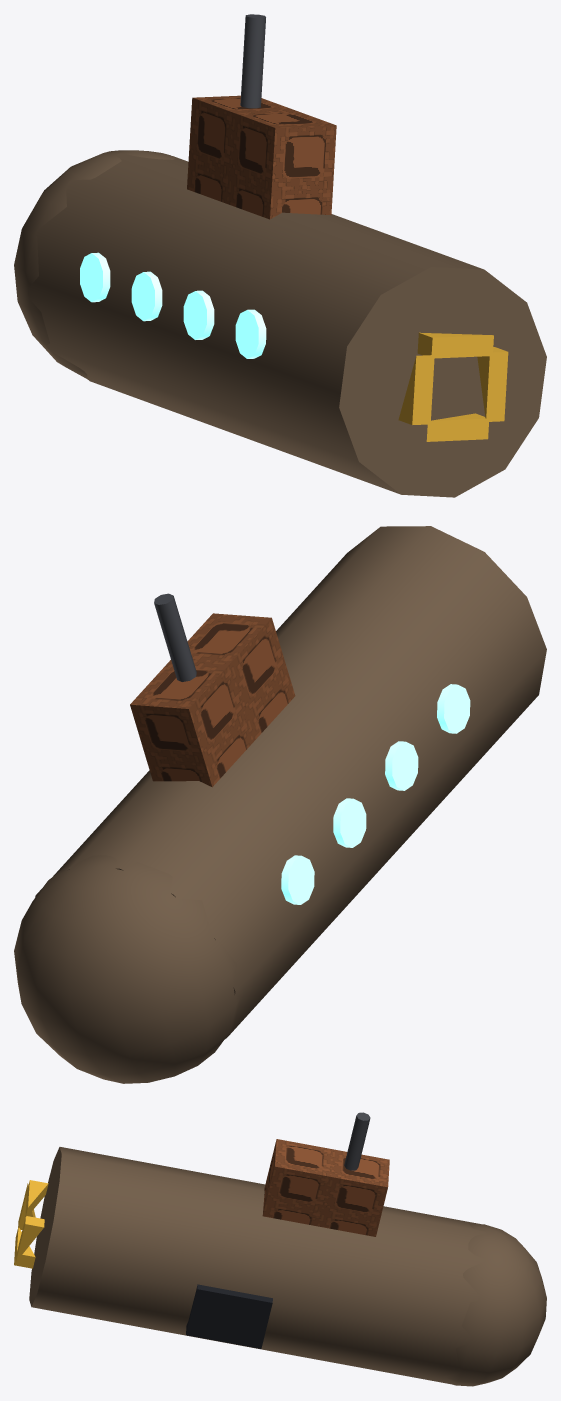
File: SubmarineWreck.glb
The picture shows the model from 3 angles, top to bottom: view 1: azimuth 30°, elevation 25°; view 2: azimuth 150°, elevation 25°; view 3: azimuth 270°, elevation 25°; orthographic projection. The views are drawn at different scales.
Visible parts, largest first — view 1: SubmarineWreck, SubmarineWreck_Glow; view 2: SubmarineWreck, SubmarineWreck_Glow; view 3: SubmarineWreck.
Part boxes in pixels (left/top/right/bottom): SubmarineWreck: left=14, top=14, right=546, bottom=497; SubmarineWreck_Glow: left=80, top=252, right=266, bottom=358; SubmarineWreck: left=14, top=526, right=546, bottom=1083; SubmarineWreck_Glow: left=281, top=684, right=470, bottom=904; SubmarineWreck: left=14, top=1112, right=546, bottom=1386.
Size of the model in its own units: 3.62 by 6.4 by 11.07.
Materials: 2 (1 with a texture image).
